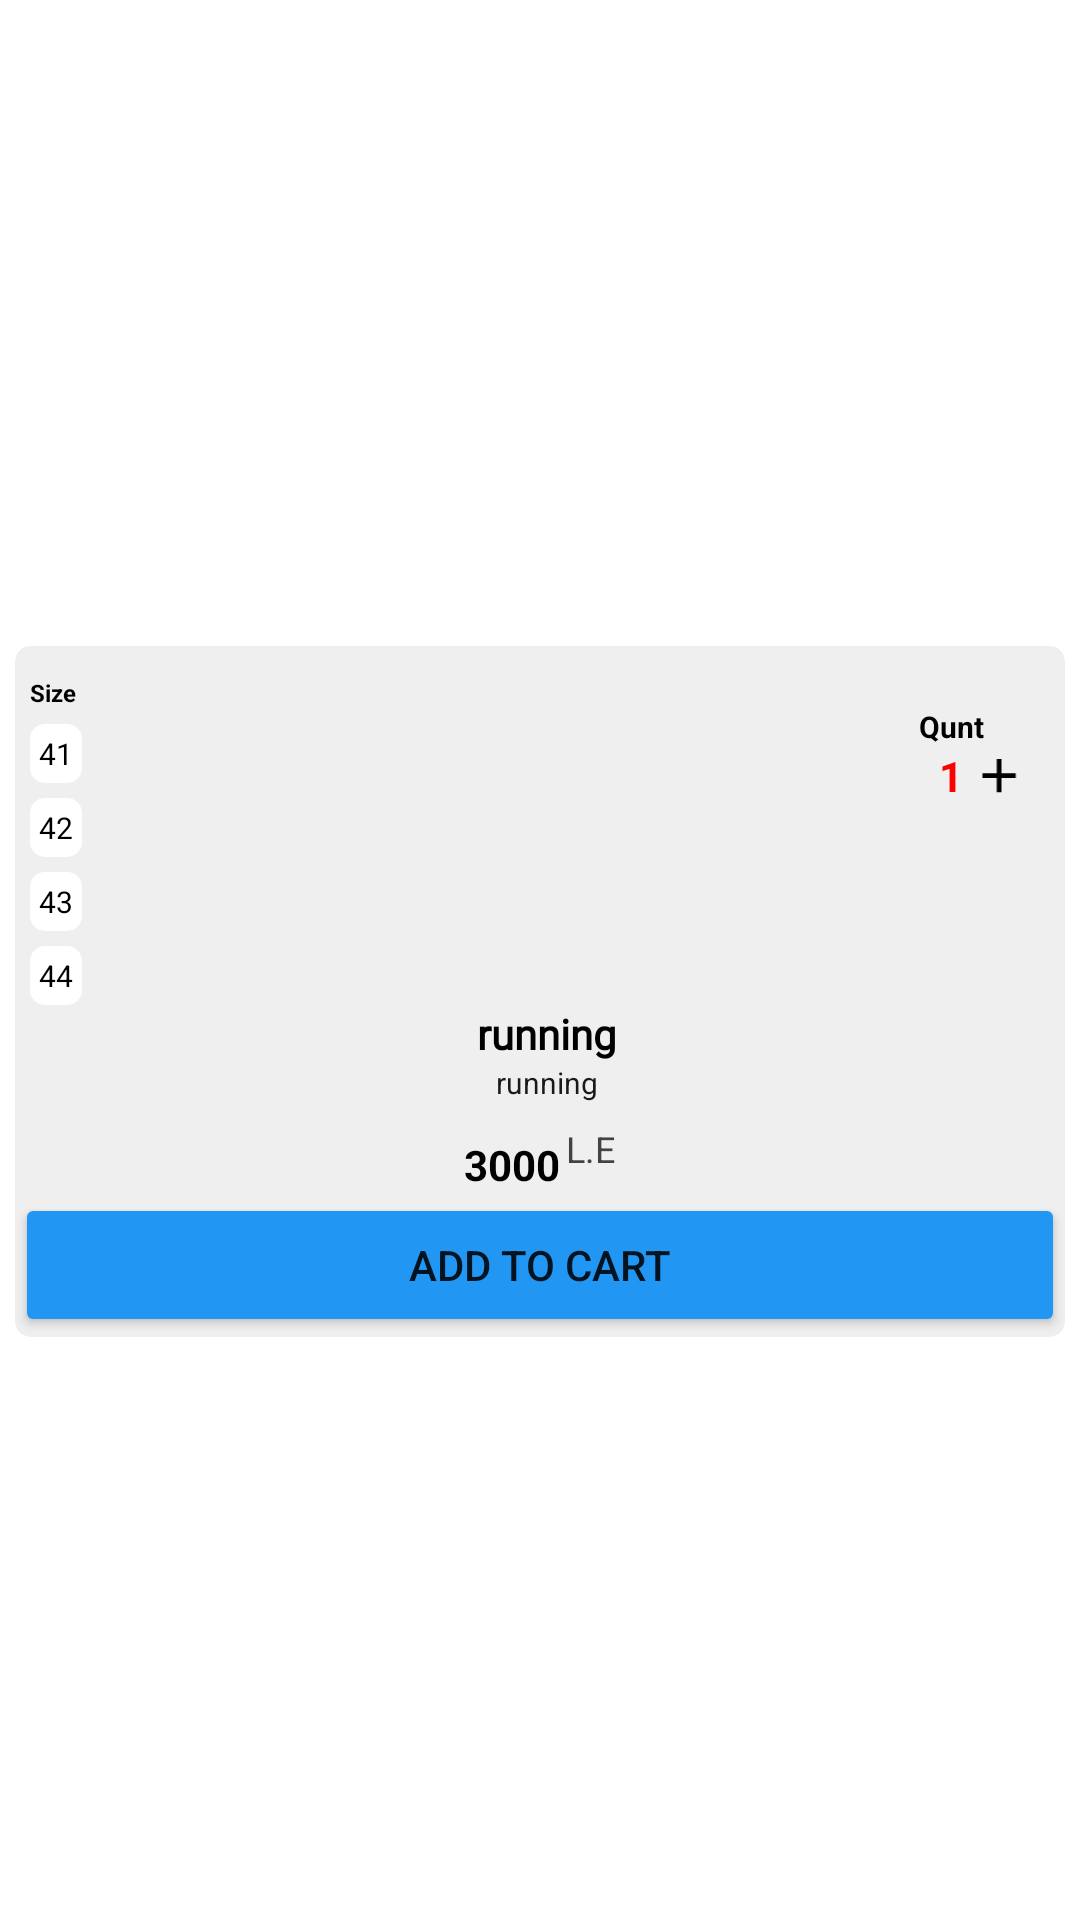

Locate icon controls on the screen. Image size 1080 x 1920, boxes as {"x1": x1, "y1": y1, "x2": x2, "y2": y2}.
add: {"x1": 982, "y1": 759, "x2": 1017, "y2": 793}
